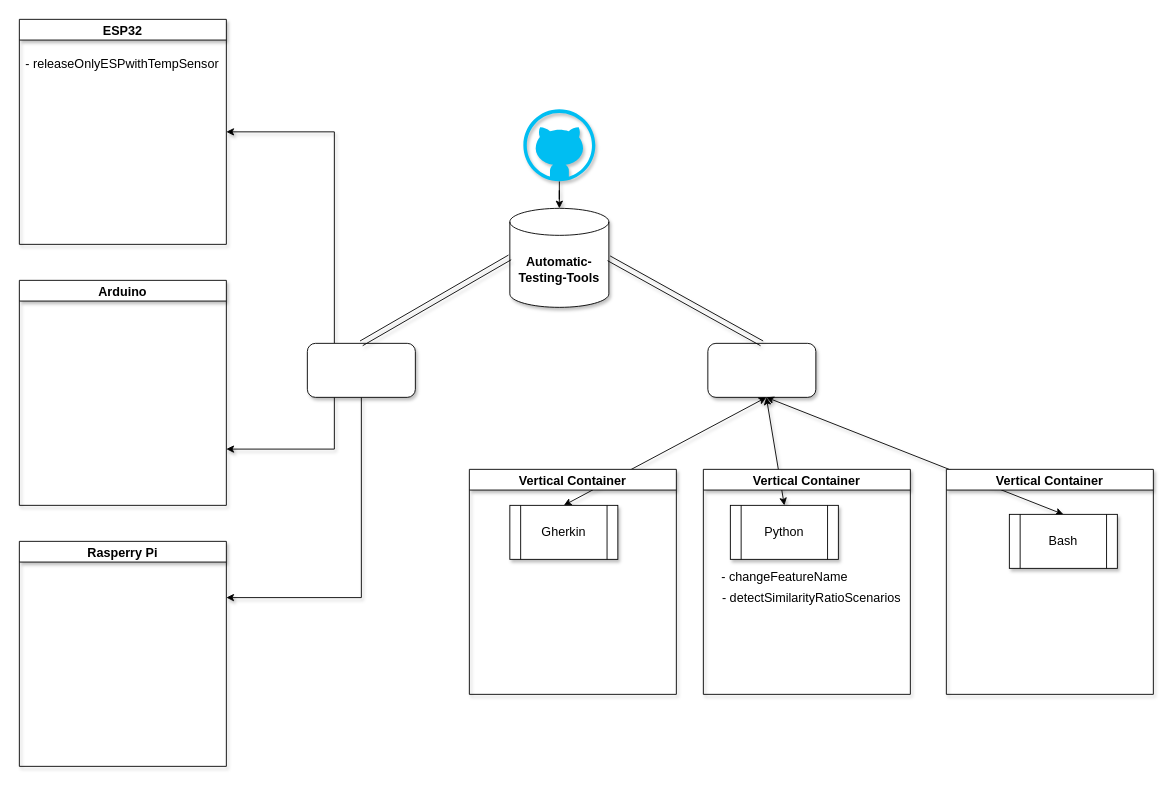
The diagram is 1175 pixels wide and 788 high, and some of its shapes have lost their labels. The centre of each missing label's shape, as x and y in pixels:
"Automatic Hardware IoT" goes at (x=362, y=371).
"Automatic Software" goes at (x=762, y=371).
